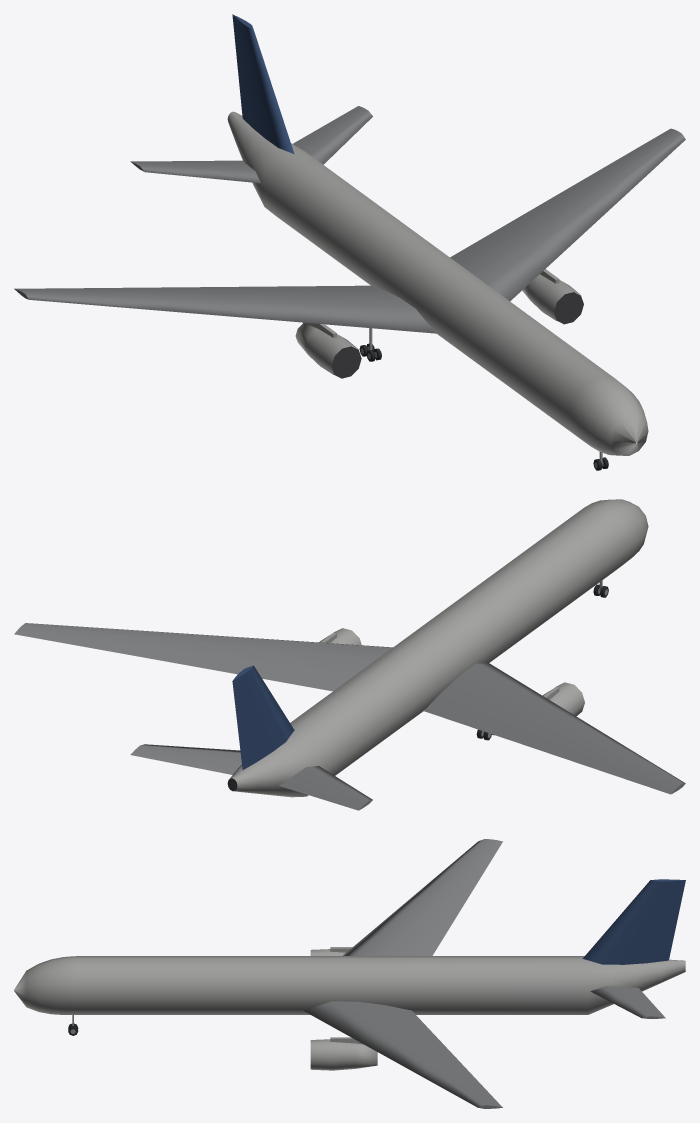
The model's file is widebody_far.glb.
The picture shows the model from 3 angles, top to bottom: view 1: azimuth 30°, elevation 25°; view 2: azimuth 150°, elevation 25°; view 3: azimuth 270°, elevation 25°; orthographic projection. The views are drawn at different scales.
Visible parts, largest first — view 1: paint-body, belly-body, trim-body, fan-body; view 2: paint-body, belly-body, trim-body; view 3: paint-body, belly-body, trim-body.
Boxes of the visible parts, box(x1,y1,x2,y2) form: paint-body: box(227, 111, 648, 455); belly-body: box(14, 106, 685, 333); trim-body: box(232, 14, 294, 154); fan-body: box(331, 292, 583, 378); paint-body: box(229, 499, 648, 797); belly-body: box(14, 623, 685, 810); trim-body: box(232, 665, 294, 769); paint-body: box(14, 947, 685, 1070); belly-body: box(303, 839, 665, 1108); trim-body: box(582, 879, 685, 964).
Bounding box in the file's own units: 60.04 × 16.19 × 64.02.
